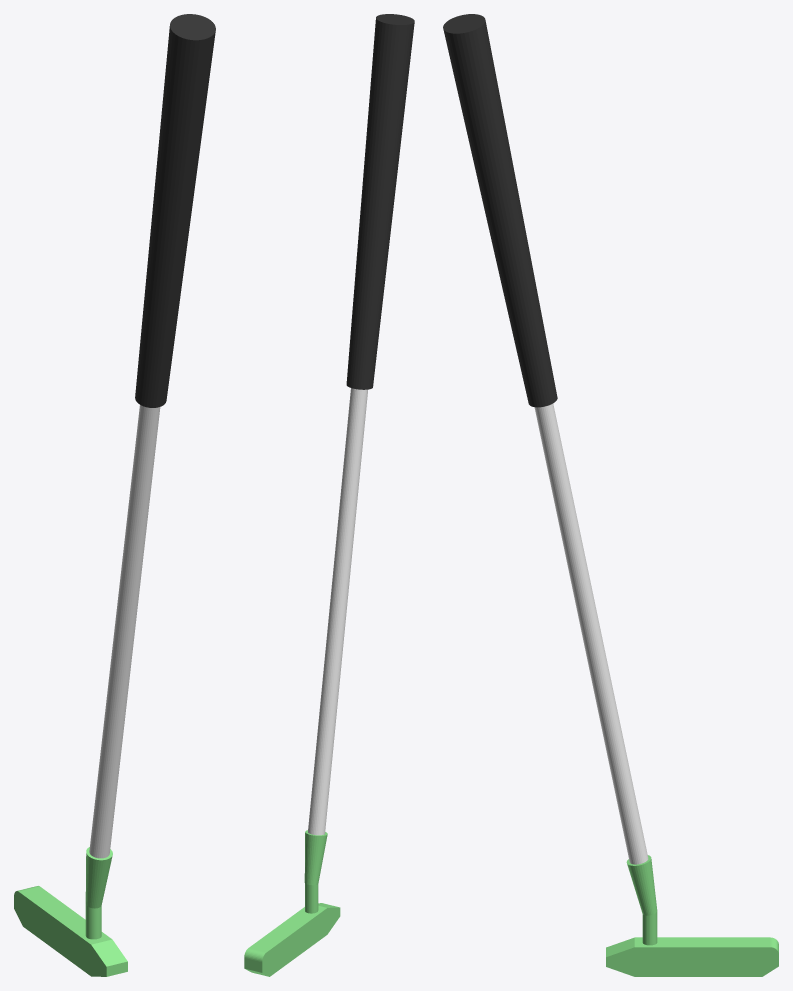
File: golfclub.fbx
The picture shows the model from 3 angles, left to right: view 1: azimuth 30°, elevation 25°; view 2: azimuth 150°, elevation 25°; view 3: azimuth 270°, elevation 25°; orthographic projection. The views are drawn at different scales.
Visible parts, largest first — view 1: Cylinder.001, Cylinder, Cube, Cylinder.003; view 2: Cylinder.001, Cylinder, Cube, Cylinder.003; view 3: Cylinder.001, Cylinder, Cube, Cylinder.003.
Boxes of the visible parts, x1,y1,x2,y2 form: Cylinder.001: (135, 14, 215, 407); Cylinder: (89, 405, 160, 858); Cube: (14, 886, 127, 976); Cylinder.003: (85, 847, 112, 939); Cylinder.001: (346, 14, 414, 389); Cylinder: (308, 388, 367, 835); Cube: (244, 903, 340, 976); Cylinder.003: (304, 830, 327, 913); Cylinder.001: (443, 14, 557, 407); Cylinder: (534, 403, 648, 864); Cube: (606, 937, 778, 976); Cylinder.003: (626, 855, 657, 945).
Size of the model in its own units: 29.26 by 710 by 227.
